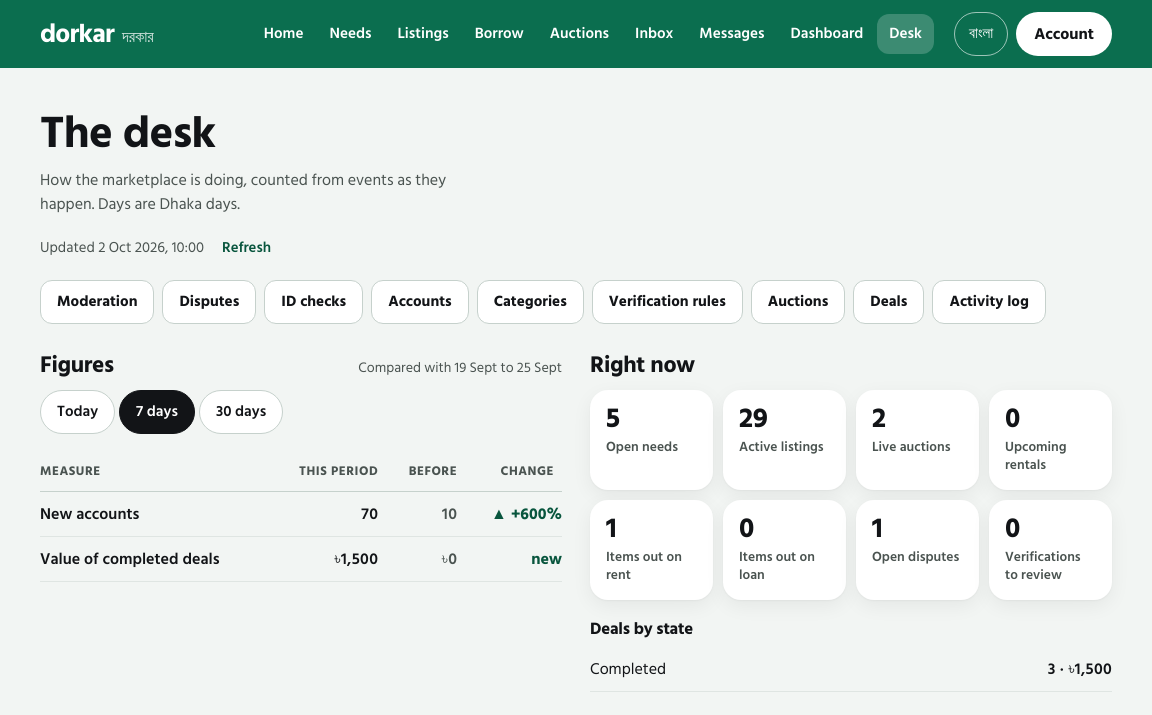
Test case: desk › shows figures per period, gauges, the chart and the funnel to staff
expect the heading "The desk" is shown: met, box [40,97,215,169]
expect the row "New accounts 70 10 ▲ +600%" is shown: met, box [40,492,562,537]
Click the radio button labelled "30 days": (241, 412) [199,390,283,434]
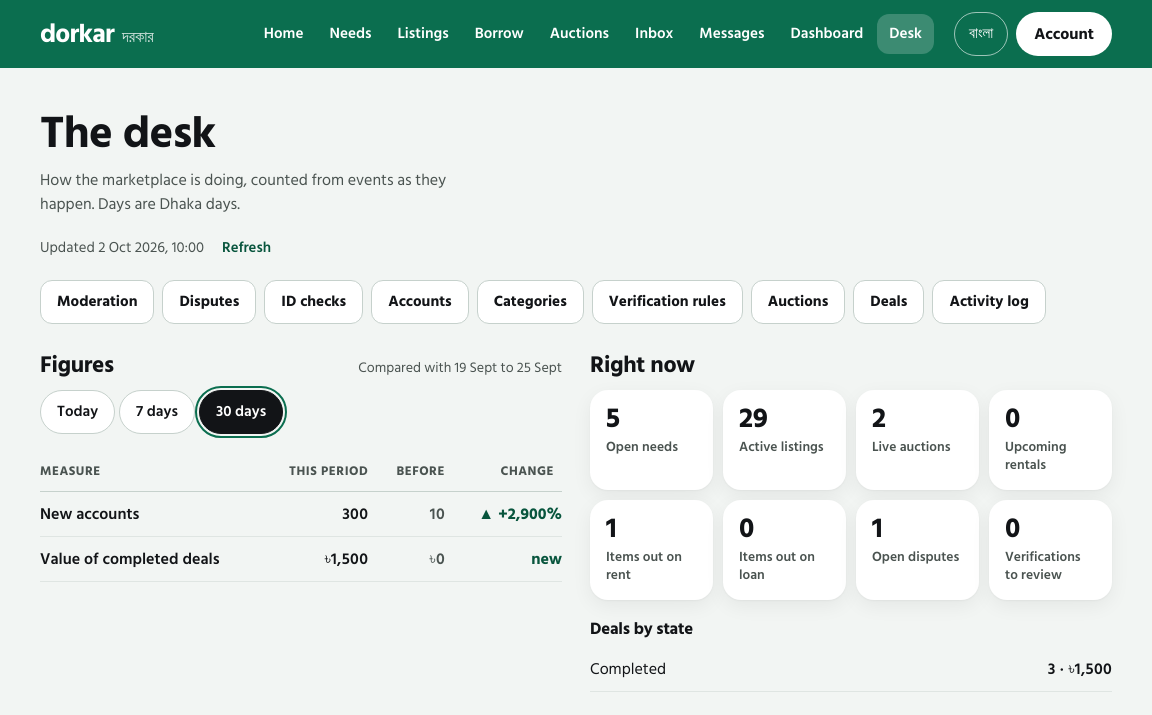
expect the text "2" is shown: met, box [872,396,886,441]
expect the row "New accounts 300 10 ▲ +2,900%" is shown: met, box [40,492,562,537]
